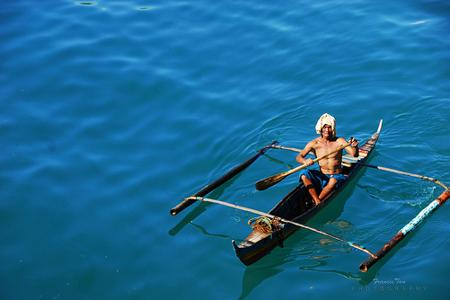person: (295, 113, 360, 205)
